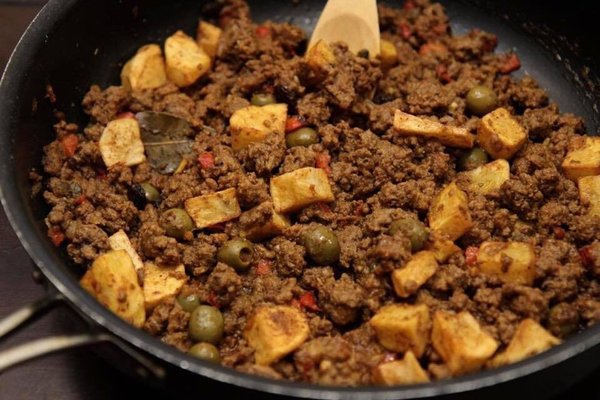sushi: (3, 5, 600, 391)
